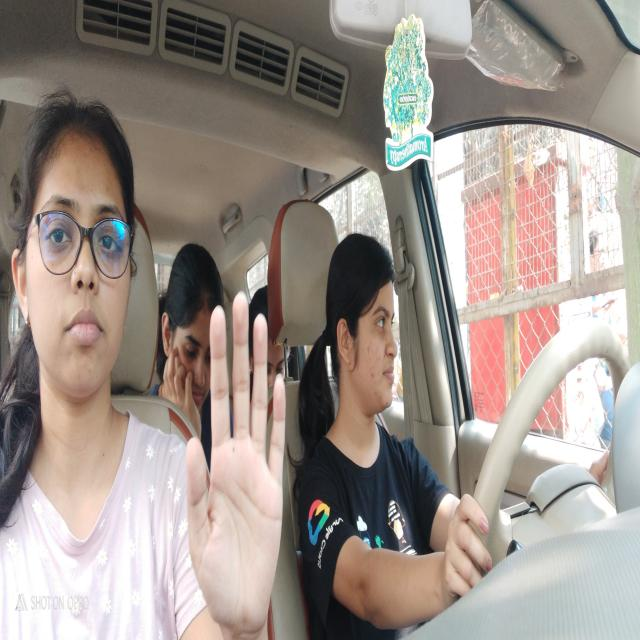person: (10, 80, 141, 403), (322, 227, 403, 421), (159, 243, 222, 412), (255, 290, 292, 398)
